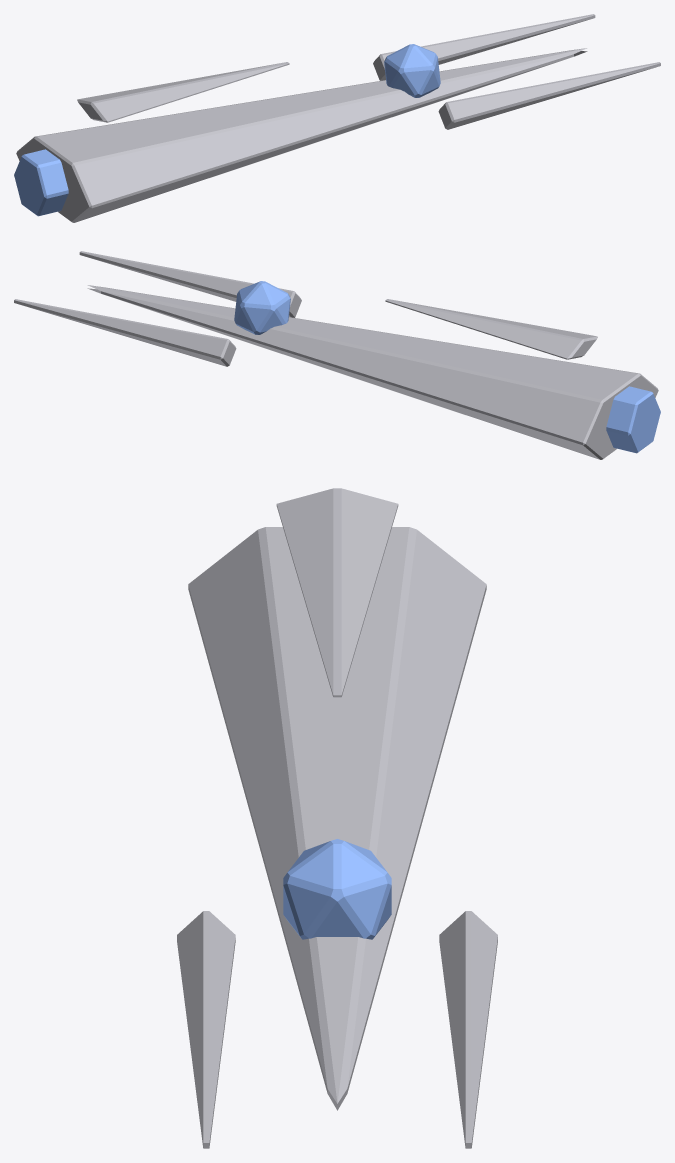
The model's file is SM_SeverantChoirSkiff.fbx.
3 views of the same model, one above another, from view 1: azimuth 30°, elevation 25°; view 2: azimuth 150°, elevation 25°; view 3: azimuth 270°, elevation 25° (orthographic). The views are drawn at different scales.
Parts seen in each view (by area): view 1: SM_SeverantChoirSkiff; view 2: SM_SeverantChoirSkiff; view 3: SM_SeverantChoirSkiff.
Part boxes in pixels (x1,y1,x2,y2): SM_SeverantChoirSkiff: (14,14,660,222); SM_SeverantChoirSkiff: (14,251,660,459); SM_SeverantChoirSkiff: (177,488,497,1148).
Size of the model in its own units: 63.22 by 9.86 by 14.7.
